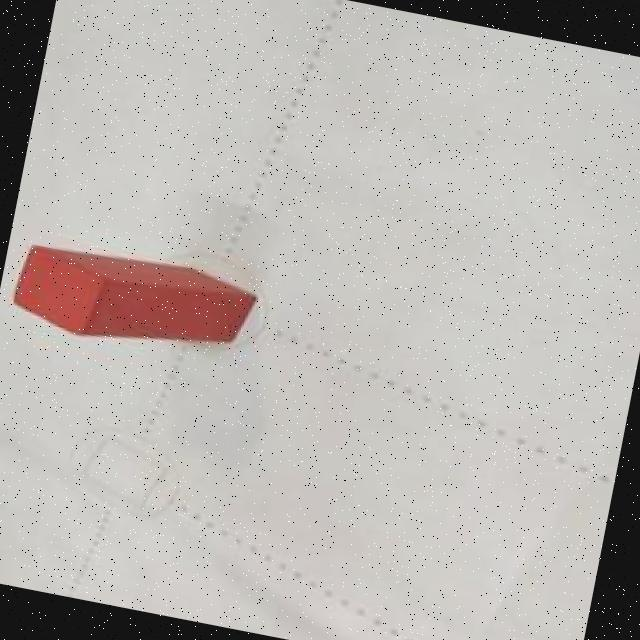redbox: (6, 232, 261, 367)
